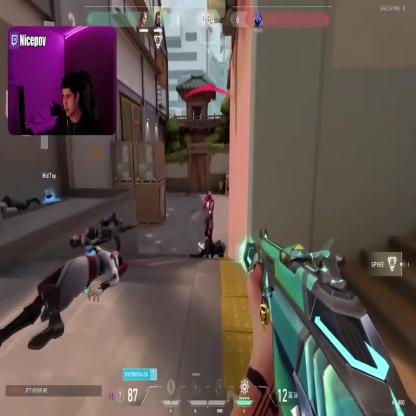enemy: (203, 190, 215, 251)
enemy_head: (207, 190, 212, 200)
